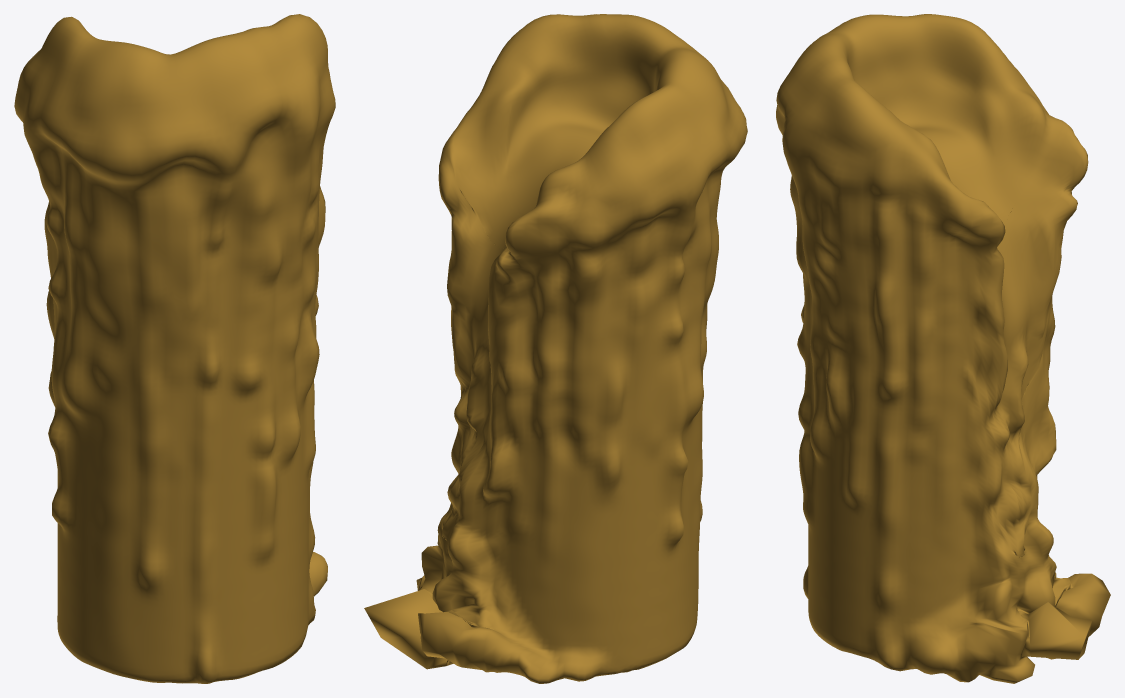
File: finalcandleone.fbx
3 views of the same model, side by side, from view 1: azimuth 30°, elevation 25°; view 2: azimuth 150°, elevation 25°; view 3: azimuth 270°, elevation 25° (orthographic). The views are drawn at different scales.
Visible parts, largest first — view 1: pCylinder1-retopo 1-retopo 1; view 2: pCylinder1-retopo 1-retopo 1; view 3: pCylinder1-retopo 1-retopo 1.
Boxes of the visible parts, bbox=[...] form: pCylinder1-retopo 1-retopo 1: bbox=[14, 14, 335, 683]; pCylinder1-retopo 1-retopo 1: bbox=[364, 14, 747, 683]; pCylinder1-retopo 1-retopo 1: bbox=[776, 14, 1110, 683].
Bounding box in the file's own units: 26.93 × 56.17 × 29.14.
